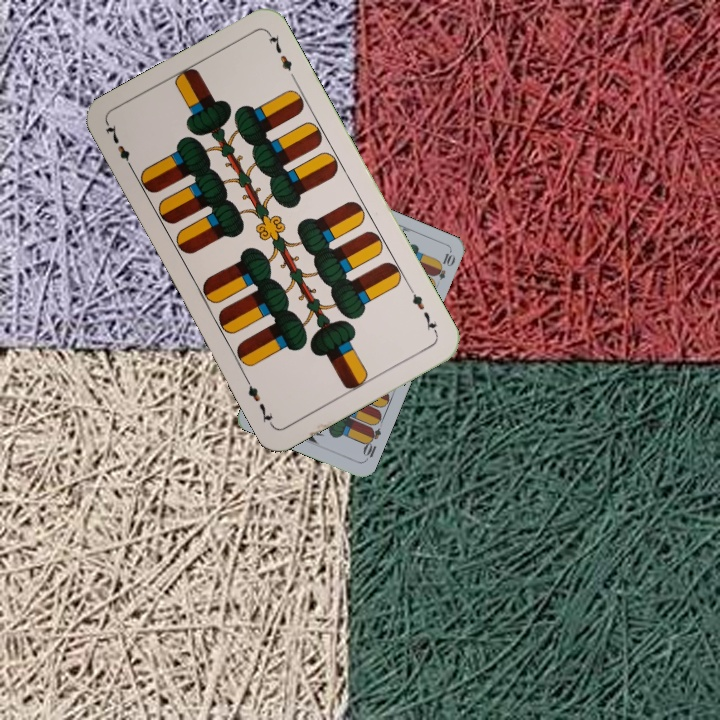E10: (359, 423, 384, 463)
E7: (405, 283, 441, 338), (101, 120, 137, 175)
